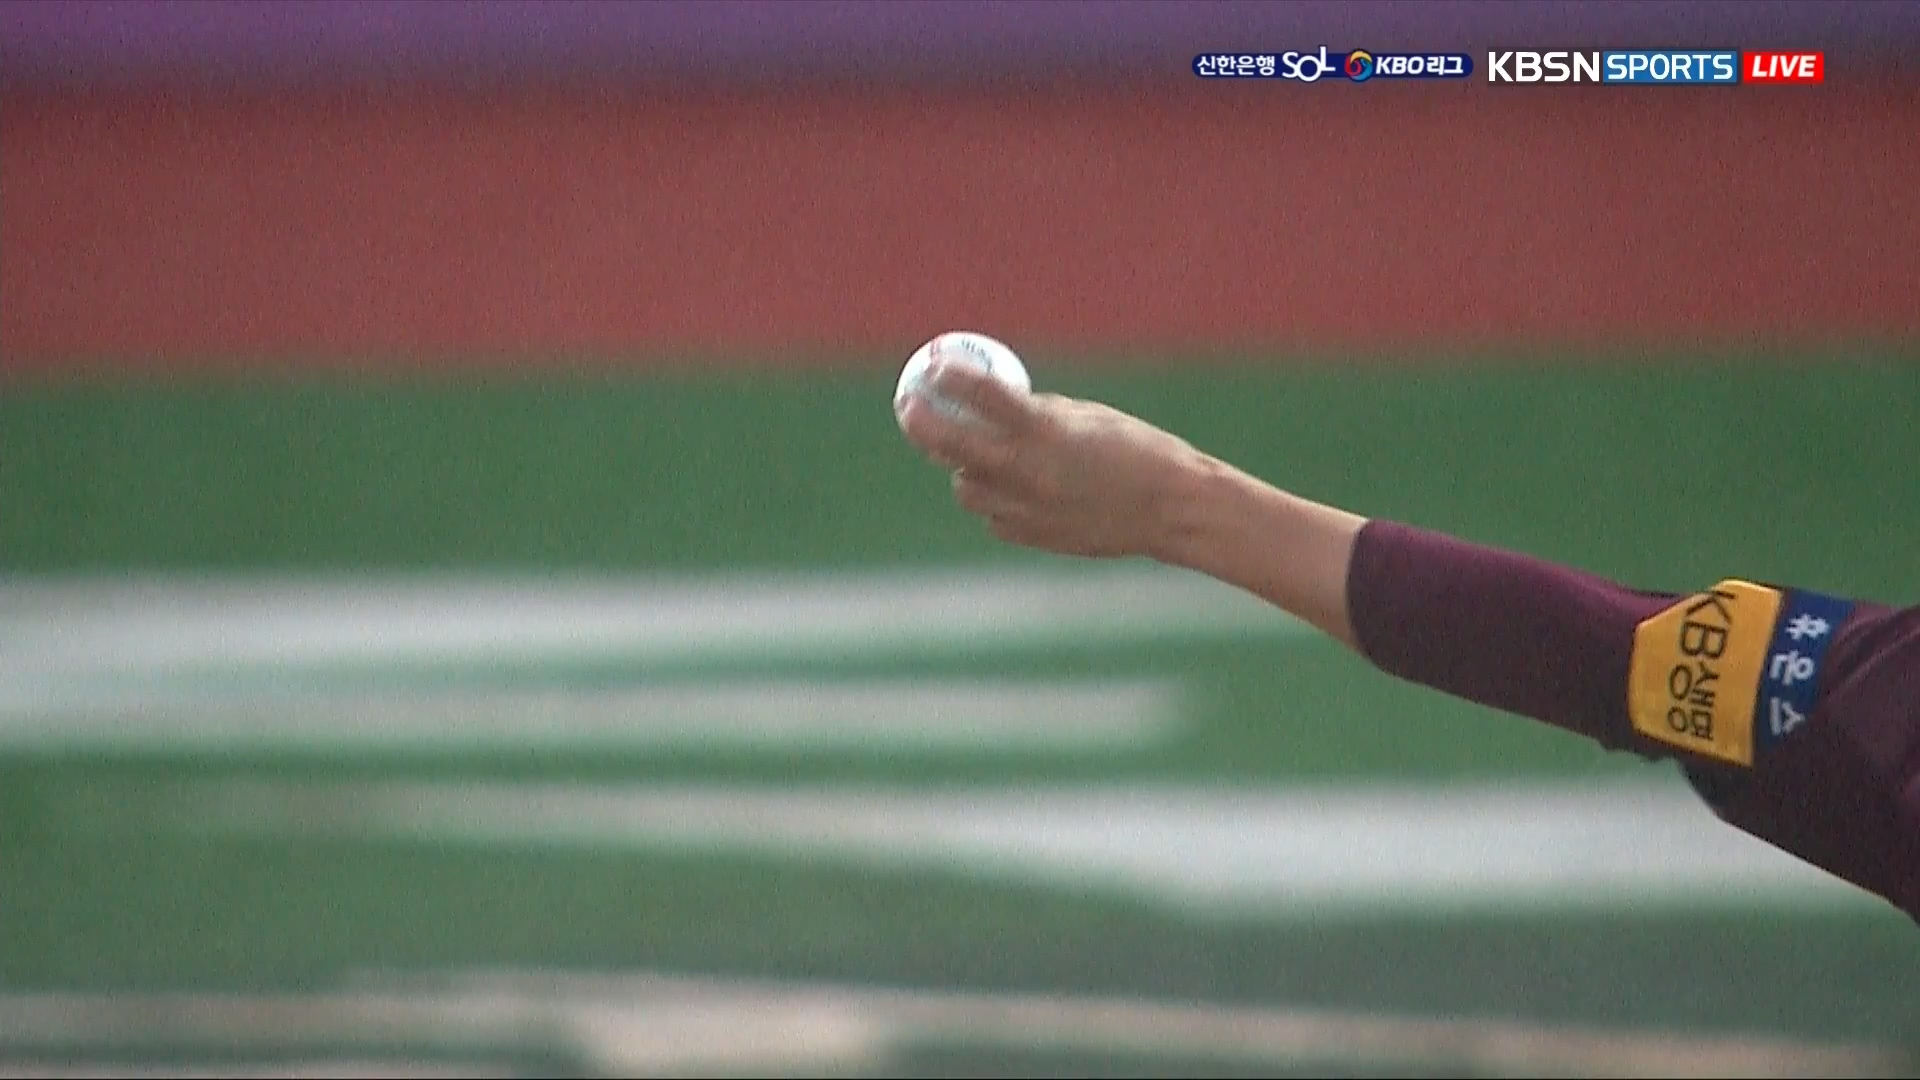zoomin_hand: (880, 323, 1638, 779)
